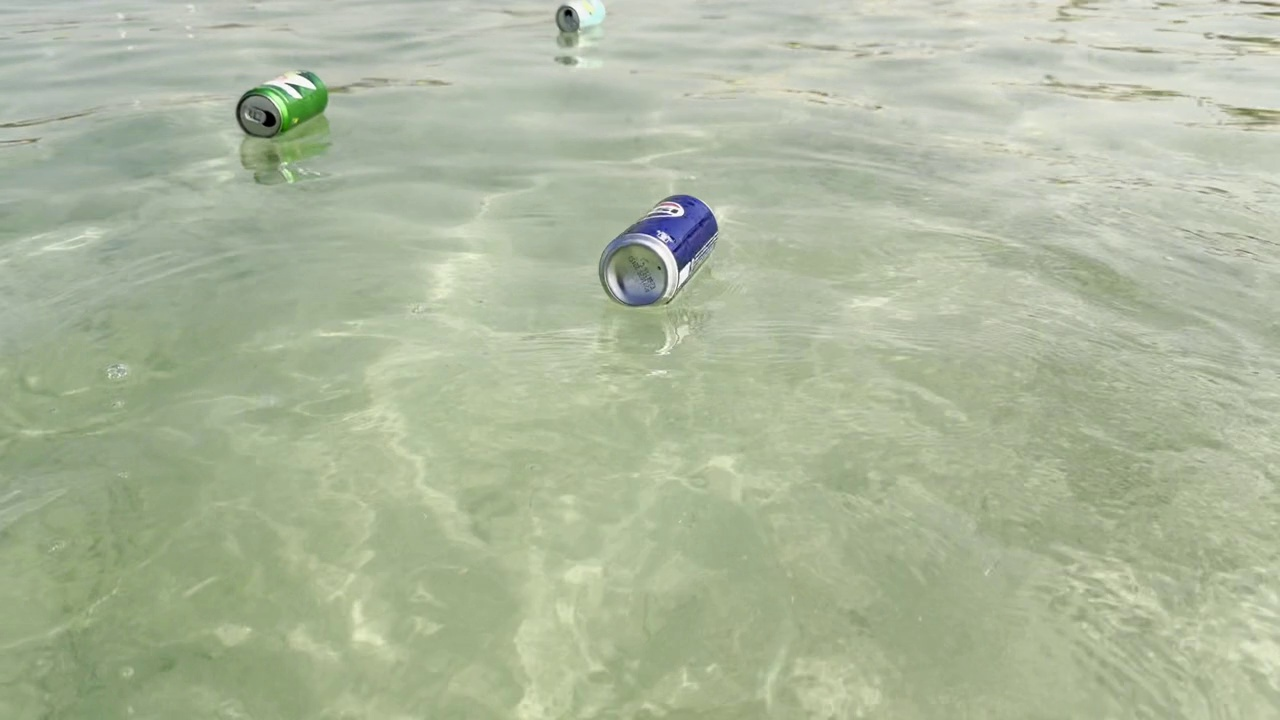debris: (590, 187, 731, 323), (233, 58, 332, 145), (553, 0, 612, 41)
